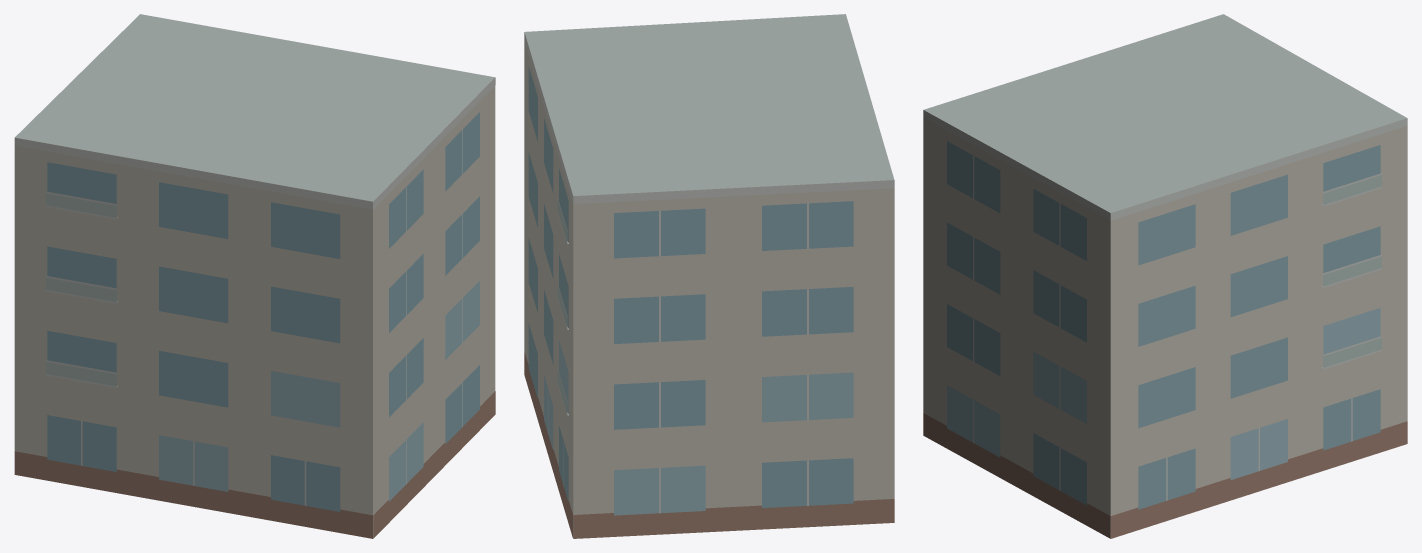
File: survey-upis-32526478.glb
The picture shows the model from 3 angles, left to right: view 1: azimuth 30°, elevation 25°; view 2: azimuth 150°, elevation 25°; view 3: azimuth 270°, elevation 25°; orthographic projection. The views are drawn at different scales.
Visible parts, largest first — view 1: survey-upis-32526478.tmp; view 2: survey-upis-32526478.tmp; view 3: survey-upis-32526478.tmp.
Boxes of the visible parts, x1=… form: survey-upis-32526478.tmp: x1=14, y1=14, x2=495, y2=538; survey-upis-32526478.tmp: x1=524, y1=14, x2=894, y2=538; survey-upis-32526478.tmp: x1=923, y1=14, x2=1407, y2=538.
Size of the model in its own units: 13.65 by 10.4 by 14.02.
